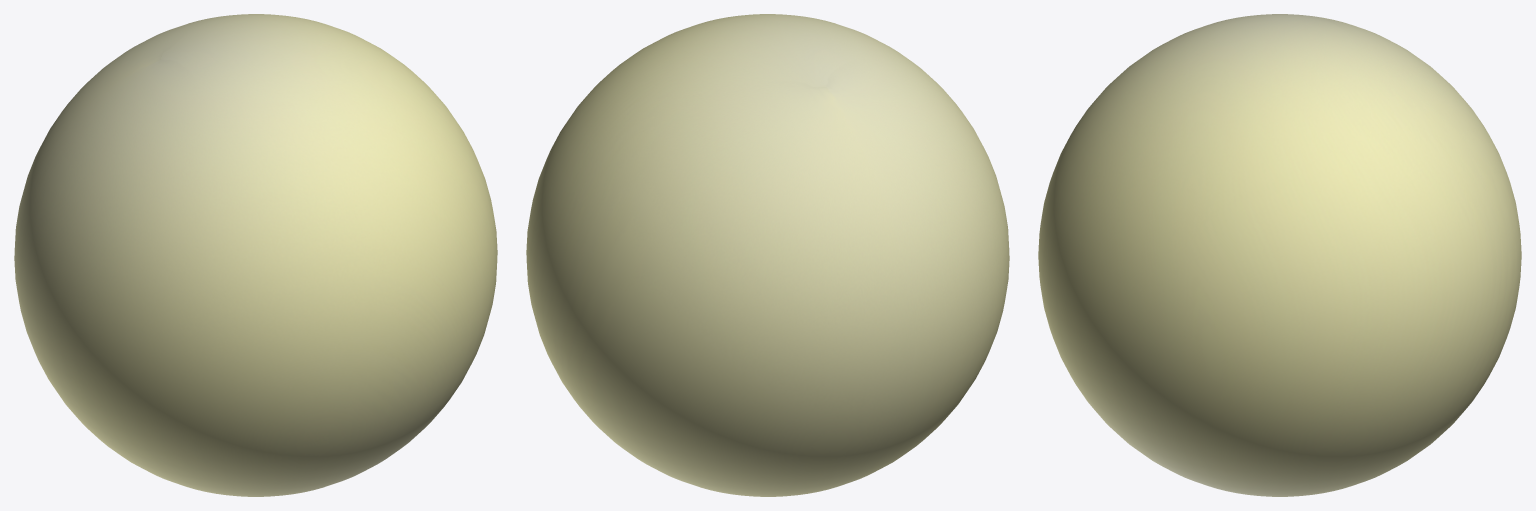
Rendered from venus.glb.
The picture shows the model from 3 angles, left to right: view 1: azimuth 30°, elevation 25°; view 2: azimuth 150°, elevation 25°; view 3: azimuth 270°, elevation 25°; orthographic projection.
Visible parts, largest first — view 1: color; view 2: color; view 3: color.
Boxes of the visible parts, left/top/right/bottom form: color: left=14, top=14, right=497, bottom=496; color: left=526, top=14, right=1009, bottom=496; color: left=1038, top=14, right=1521, bottom=496.
Size of the model in its own units: 2.08 by 2.08 by 2.08.
2 materials, 2 textured.
